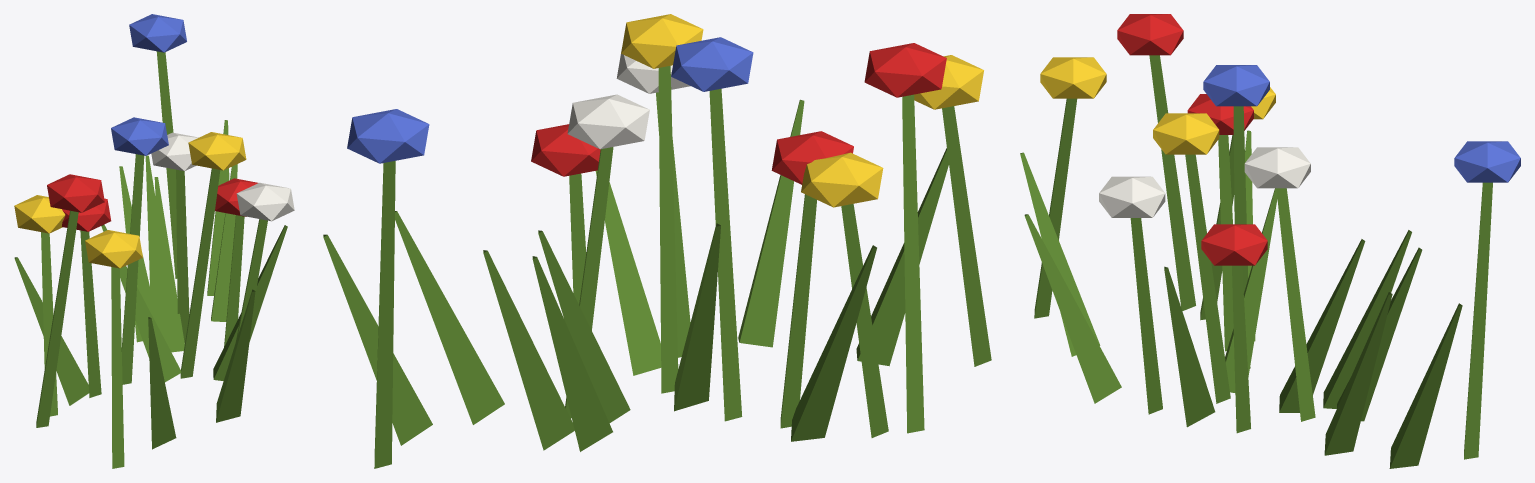
The model's file is UM_Wildblumen.fbx.
3 views of the same model, side by side, from view 1: azimuth 30°, elevation 25°; view 2: azimuth 150°, elevation 25°; view 3: azimuth 270°, elevation 25° (orthographic). The views are drawn at different scales.
Parts seen in each view (by area): view 1: UM_Wildblumen; view 2: UM_Wildblumen; view 3: UM_Wildblumen.
Boxes of the visible parts, x1,y1,x2,y2 form: UM_Wildblumen: [14, 14, 294, 468]; UM_Wildblumen: [323, 14, 991, 468]; UM_Wildblumen: [1020, 14, 1520, 468].
Size of the model in its own units: 0.6526 by 0.5383 by 0.7701.
